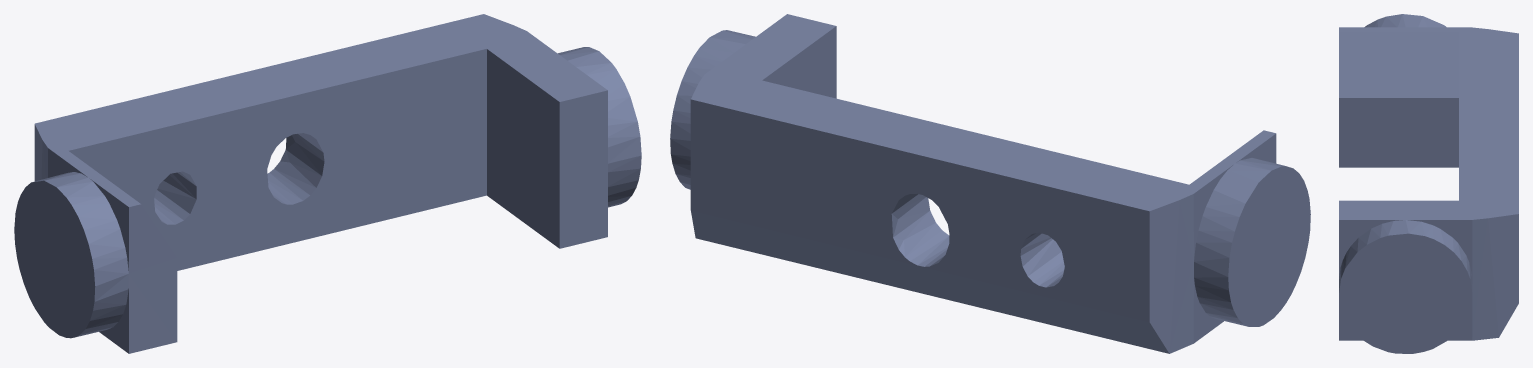
The model's file is i02_head_left_eye_horizontal_visual.obj.light.glb.
The picture shows the model from 3 angles, left to right: view 1: azimuth 30°, elevation 25°; view 2: azimuth 150°, elevation 25°; view 3: azimuth 270°, elevation 25°; orthographic projection. The views are drawn at different scales.
Bounding box in the file's own units: 0.1838 × 0.0472 × 0.0637.
